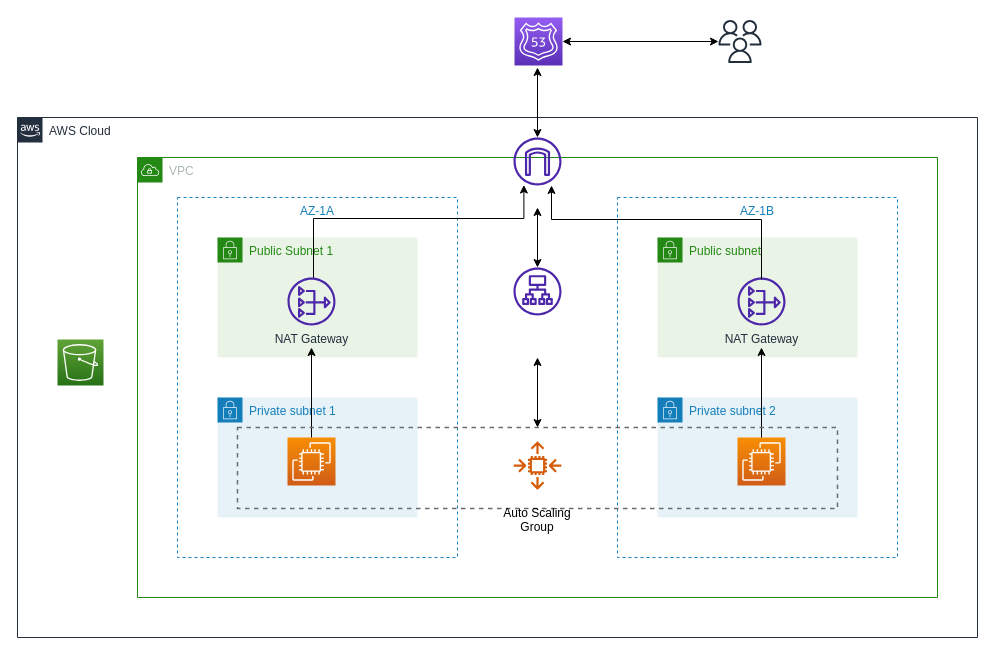
Some shapes in this 995 by 655 pixel diagram are drawn without their labels. Each missing label, with the centre of its shape:
Application Load Balancer: the point at 537,291
IGW: the point at 537,161
Web Server 1: the point at 311,461
Web Server 2: the point at 761,461
